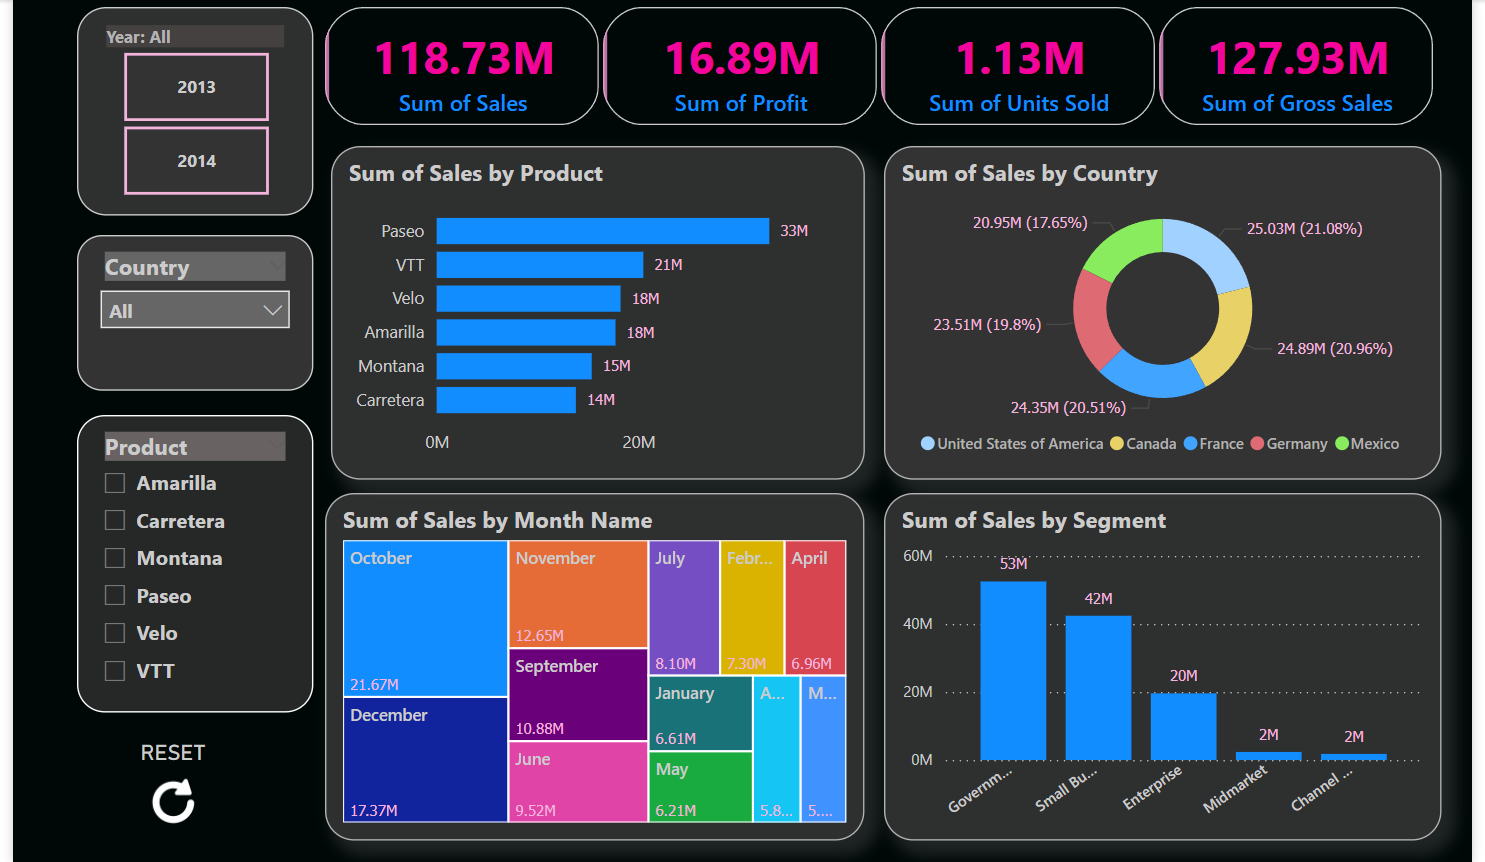

The page's visual inventory and layout, read from the dashboard file:
{"tool":"powerbi","page":{"name":"DASHBOARD","canvas":[1050,620],"ordinal":0},"visuals":[{"type":"slicer","fields":{"Values":["financials.Year"]},"box":[45.8,5.3,170.3,149.7],"z":0},{"type":"slicer","fields":{"Values":["financials.Country"]},"box":[45.8,168.7,170.3,112.2],"z":1000},{"type":"slicer","fields":{"Values":["financials.Product"]},"box":[46,298.5,169.7,214.3],"z":2000},{"type":"barChart","fields":{"Y":["Sum(financials. Sales)"],"Category":["financials.Product"]},"box":[228.7,105,384.1,239.5],"z":3000},{"type":"donutChart","fields":{"Category":["financials.Country"],"Y":["Sum(financials. Sales)"]},"box":[626.5,105,401.3,239.5],"z":4000},{"type":"treemap","fields":{"Group":["financials.Month Name"],"Values":["Sum(financials. Sales)"]},"box":[224.4,354.6,388.4,250.3],"z":5000},{"type":"columnChart","fields":{"Category":["financials.Segment"],"Y":["Sum(financials. Sales)"]},"box":[626.5,354.6,401.3,250.3],"z":6000},{"type":"cardVisual","fields":{"Data":["Sum(financials. Sales)","Sum(financials.Profit)","Sum(financials.Units Sold)","Sum(financials.Gross Sales)"]},"box":[219.4,0,808.4,95.7],"z":7000},{"type":"image","title":"RESET","box":[79.8,531.5,70.5,73.4],"z":8000}]}

Visuals, with their boxes in screenshot pixels (x1, y1, x2, y2), scaled from the page's 1050x620 canvas onto the 1485x862 screenshot:
slicer - financials.Year: rect(65, 7, 306, 216)
slicer - financials.Country: rect(65, 235, 306, 391)
slicer - financials.Product: rect(65, 415, 305, 713)
barChart - Sum(financials. Sales) x financials.Product: rect(323, 146, 867, 479)
donutChart - financials.Country x Sum(financials. Sales): rect(886, 146, 1454, 479)
treemap - financials.Month Name x Sum(financials. Sales): rect(317, 493, 867, 841)
columnChart - financials.Segment x Sum(financials. Sales): rect(886, 493, 1454, 841)
cardVisual - Sum(financials. Sales) x Sum(financials.Profit): rect(310, 0, 1454, 133)
"RESET" image: rect(113, 739, 213, 841)
